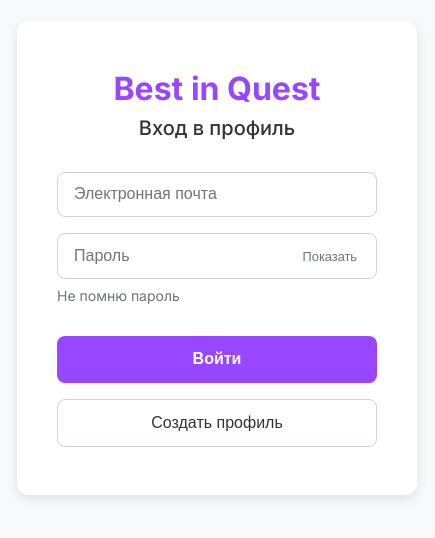
Scenario: LoginPage › clears error message on new login attempt
Первая попытка - неудачная
Step 1. Type "wrong@example.com" into the field with placeholder "Электронная почта" → (217, 194), box [57, 172, 377, 217]
Step 2. Type "wrongpassword" into the password field with placeholder "Пароль" → (217, 256), box [57, 233, 377, 279]
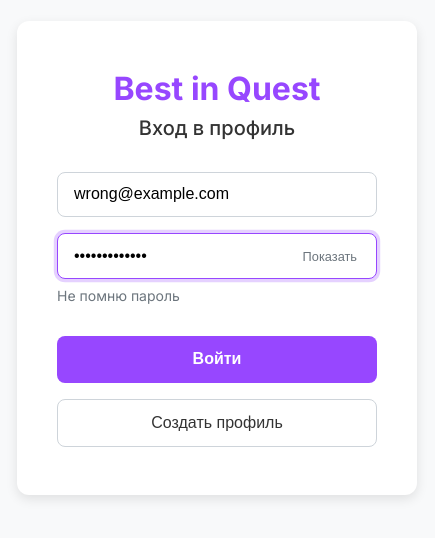
Step 3. Click the button "Войти" → (217, 359), box [57, 336, 377, 383]
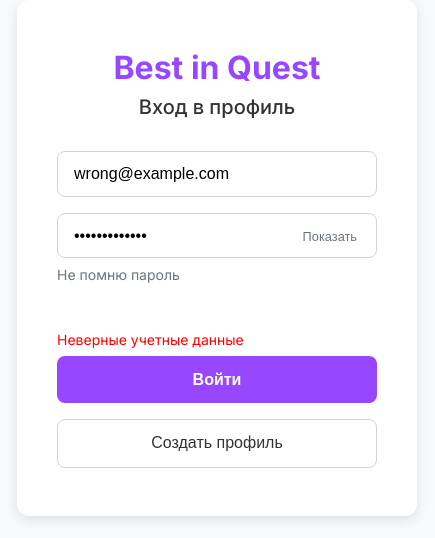
Expected: the text "Неверные учетные данные" is shown, [57, 331, 244, 348]
Вторая попытка - проверяем, что ошибка исчезает
Step 4. Clear the field with placeholder "Электронная почта" → (217, 174), box [57, 151, 377, 197]
Step 5. Clear the password field with placeholder "Пароль" → (217, 236), box [57, 213, 377, 258]
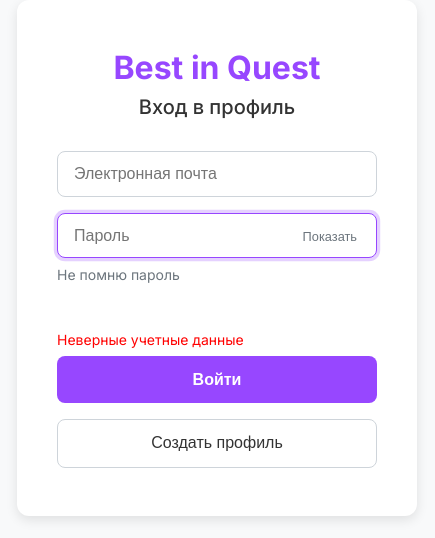
Step 6. Type "test@example.com" into the field with placeholder "Электронная почта" → (217, 174), box [57, 151, 377, 197]
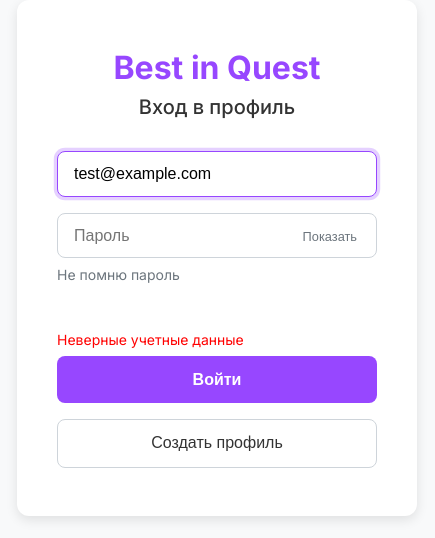
Step 7. Type "password123" into the password field with placeholder "Пароль" → (217, 236), box [57, 213, 377, 258]
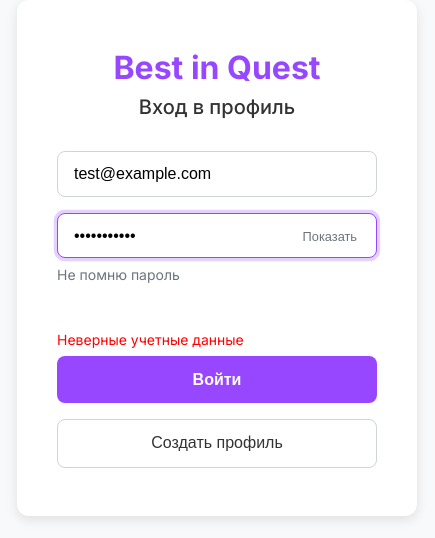
Step 8. Click the button "Войти" → (217, 380), box [57, 356, 377, 403]
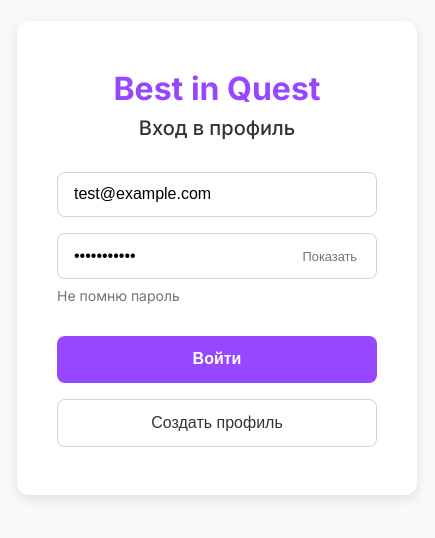
Expected: the text "Неверные учетные данные" is gone
